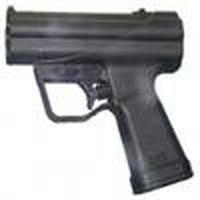gun: (6, 4, 199, 183)
